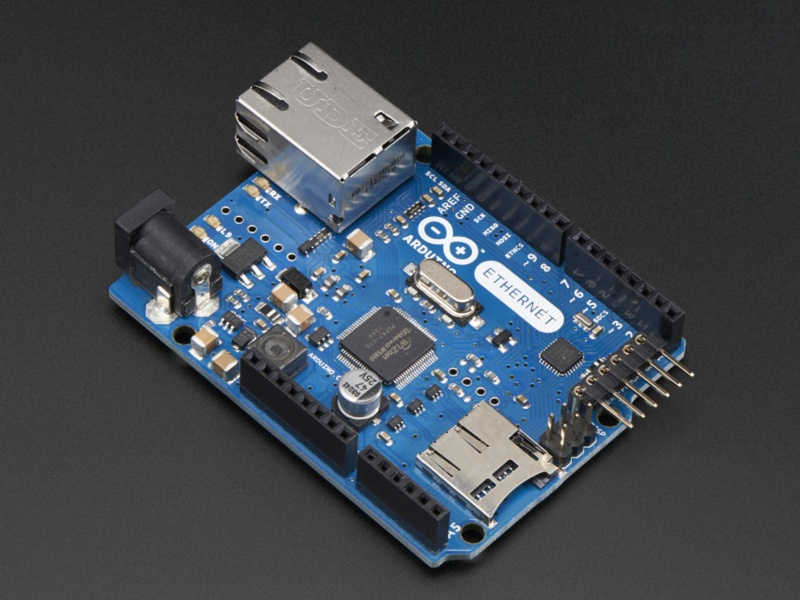uno: (72, 39, 695, 562)
